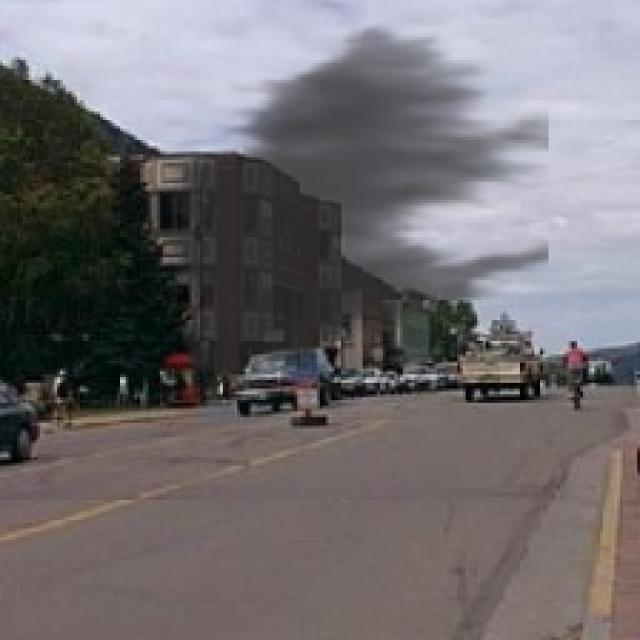smoke: (143, 14, 548, 400)
